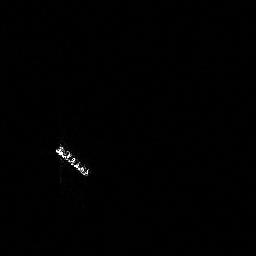ship: (51, 139, 93, 179)
